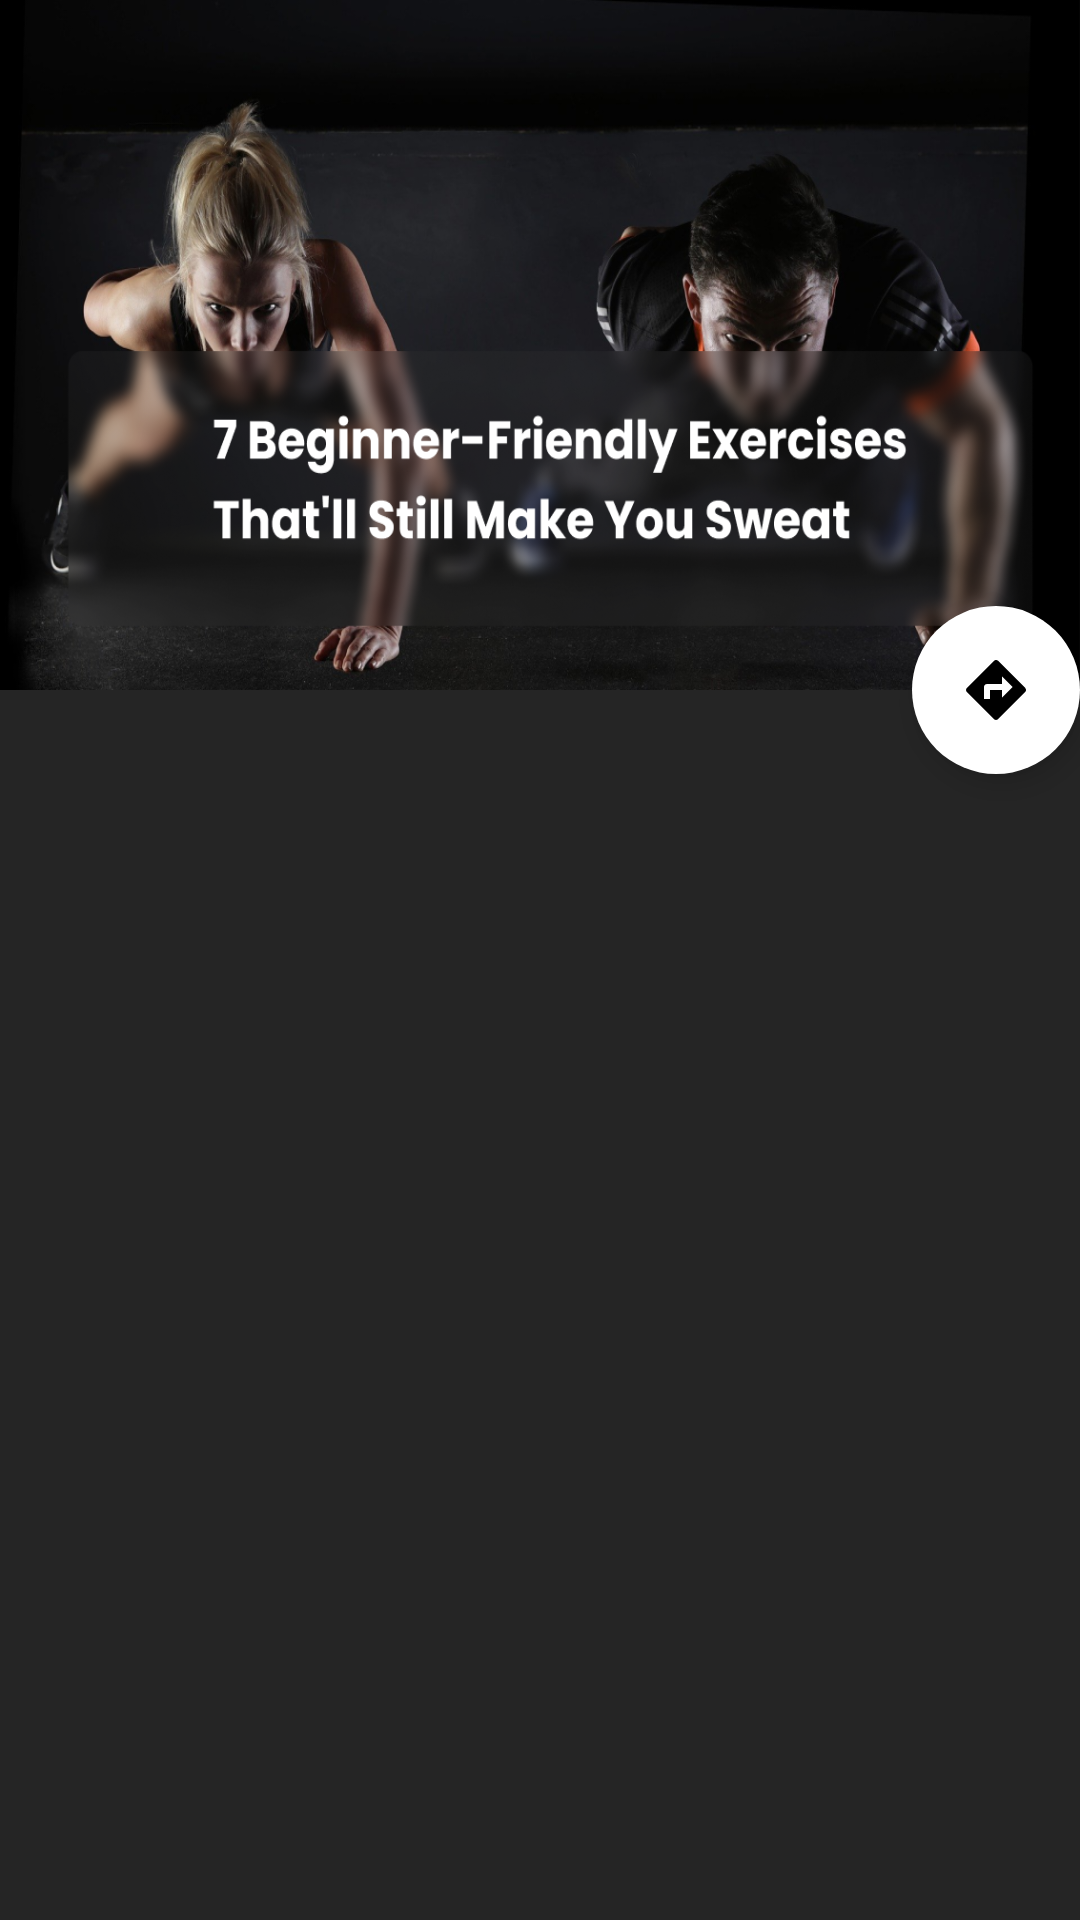

Named icons in this screenshot (1080px×1920px) and their bounding boxes, (x1, y1, x2, y2):
directions: (912, 606, 1080, 774)
